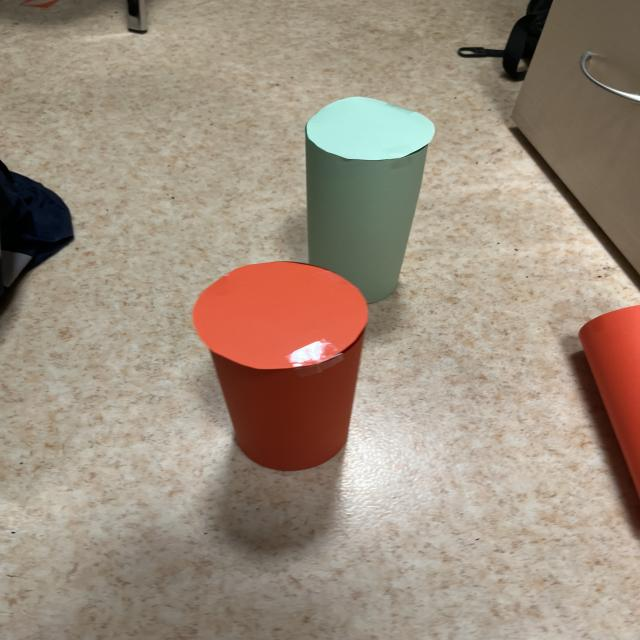meta: (305, 97, 434, 303)
przeszkoda: (193, 262, 368, 471), (579, 306, 640, 496)
